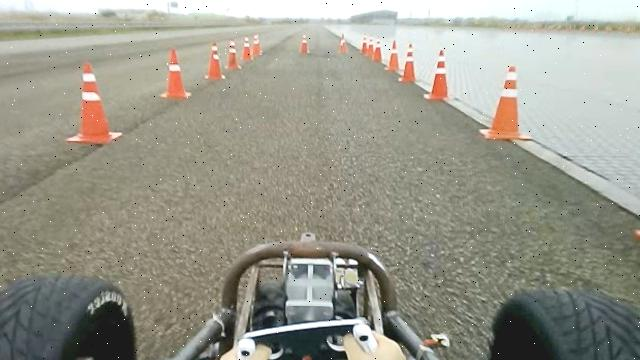red cone: (65, 61, 122, 145), (479, 65, 534, 141), (159, 48, 192, 99), (425, 49, 454, 101), (204, 41, 226, 80), (399, 43, 420, 83)
